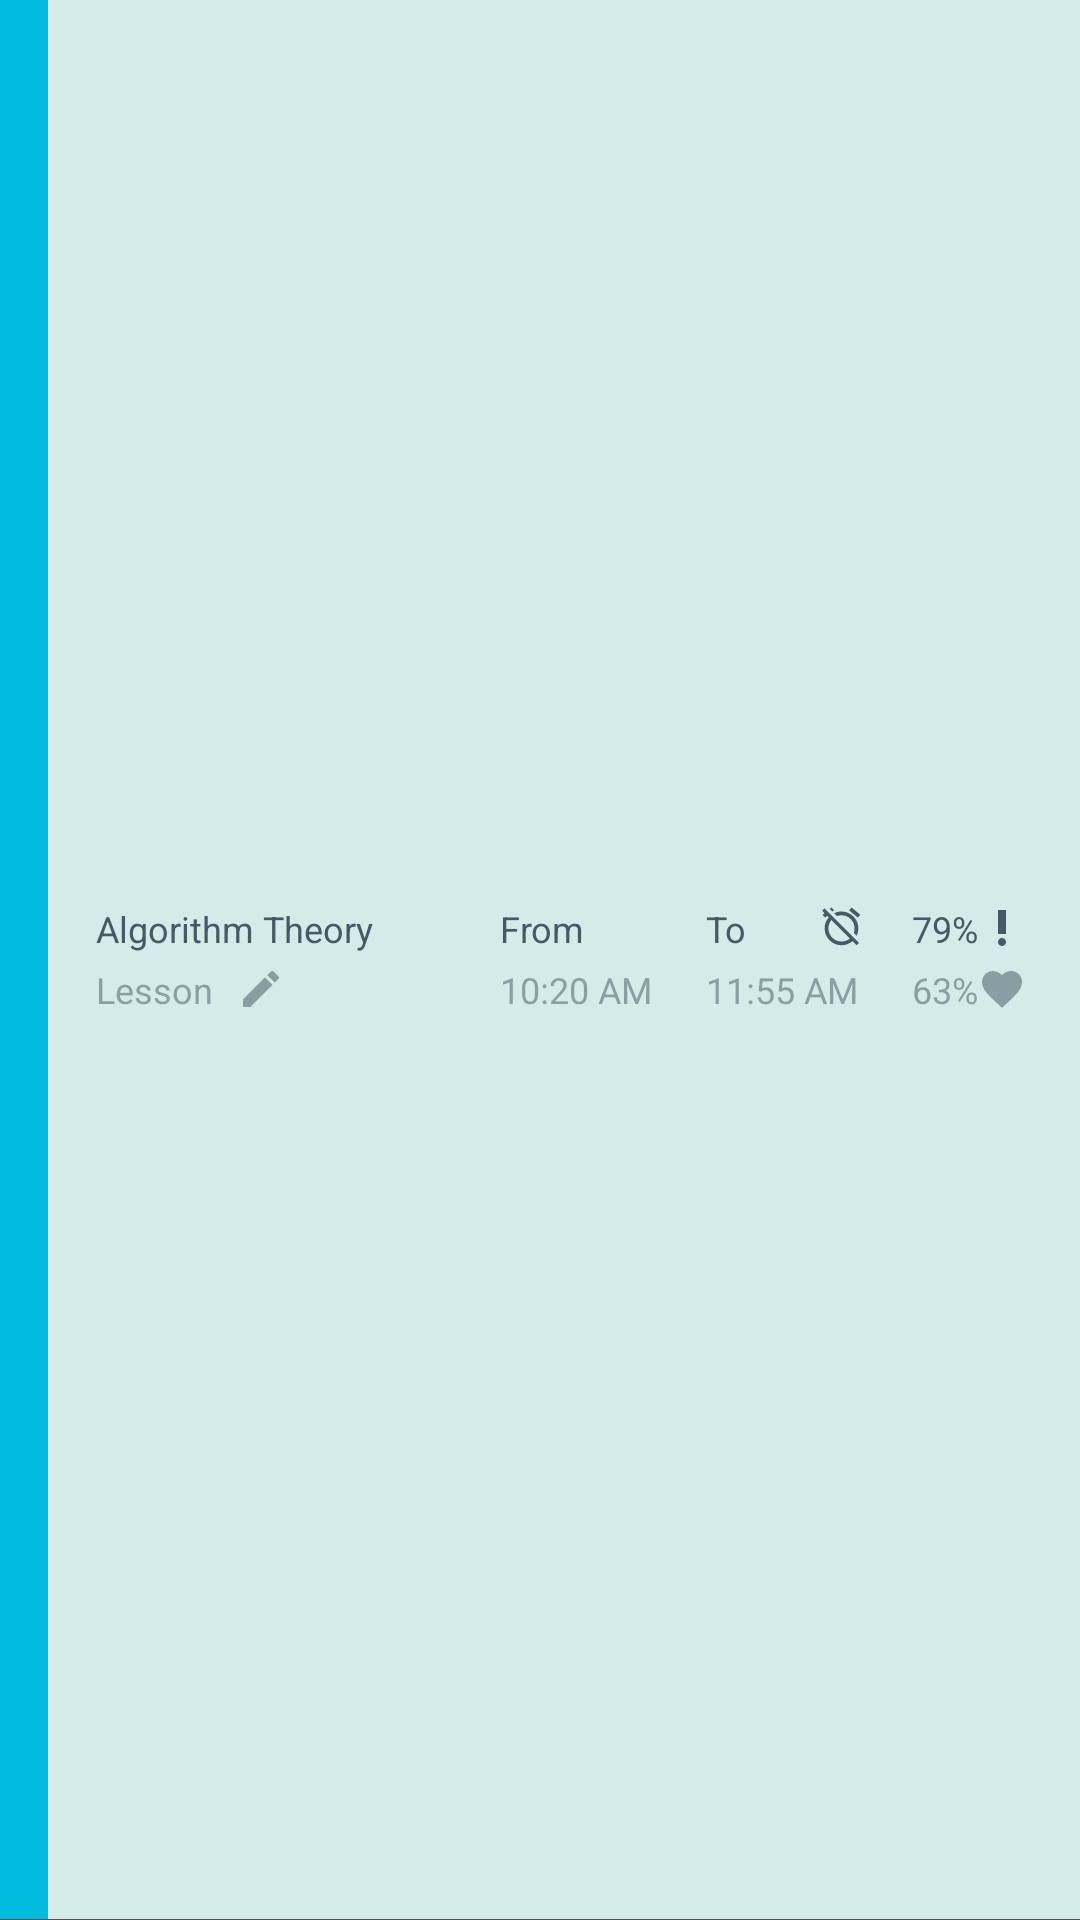

Named icons in this screenshot (1080 x 1920) and their centers, (x=x, y=y):
importance: (x=1002, y=928)
interest today page: (x=1002, y=989)
